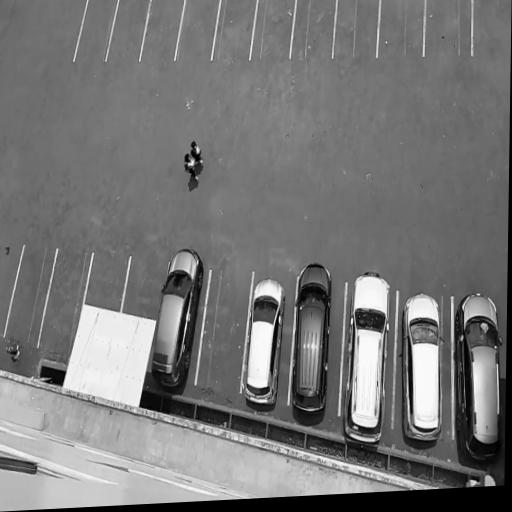Car: (340, 266, 393, 455), (454, 290, 503, 468), (288, 256, 335, 421), (399, 290, 446, 449), (240, 273, 289, 413)
Space Available: (196, 271, 252, 394), (4, 242, 57, 347), (38, 250, 92, 352), (122, 257, 169, 321), (140, 0, 185, 62), (212, 0, 257, 61), (333, 0, 380, 58), (106, 0, 150, 61), (378, 0, 425, 57), (424, 0, 471, 57), (84, 254, 130, 312), (74, 0, 117, 61), (251, 0, 296, 58), (291, 0, 336, 58), (176, 0, 219, 60), (473, 0, 511, 55)
